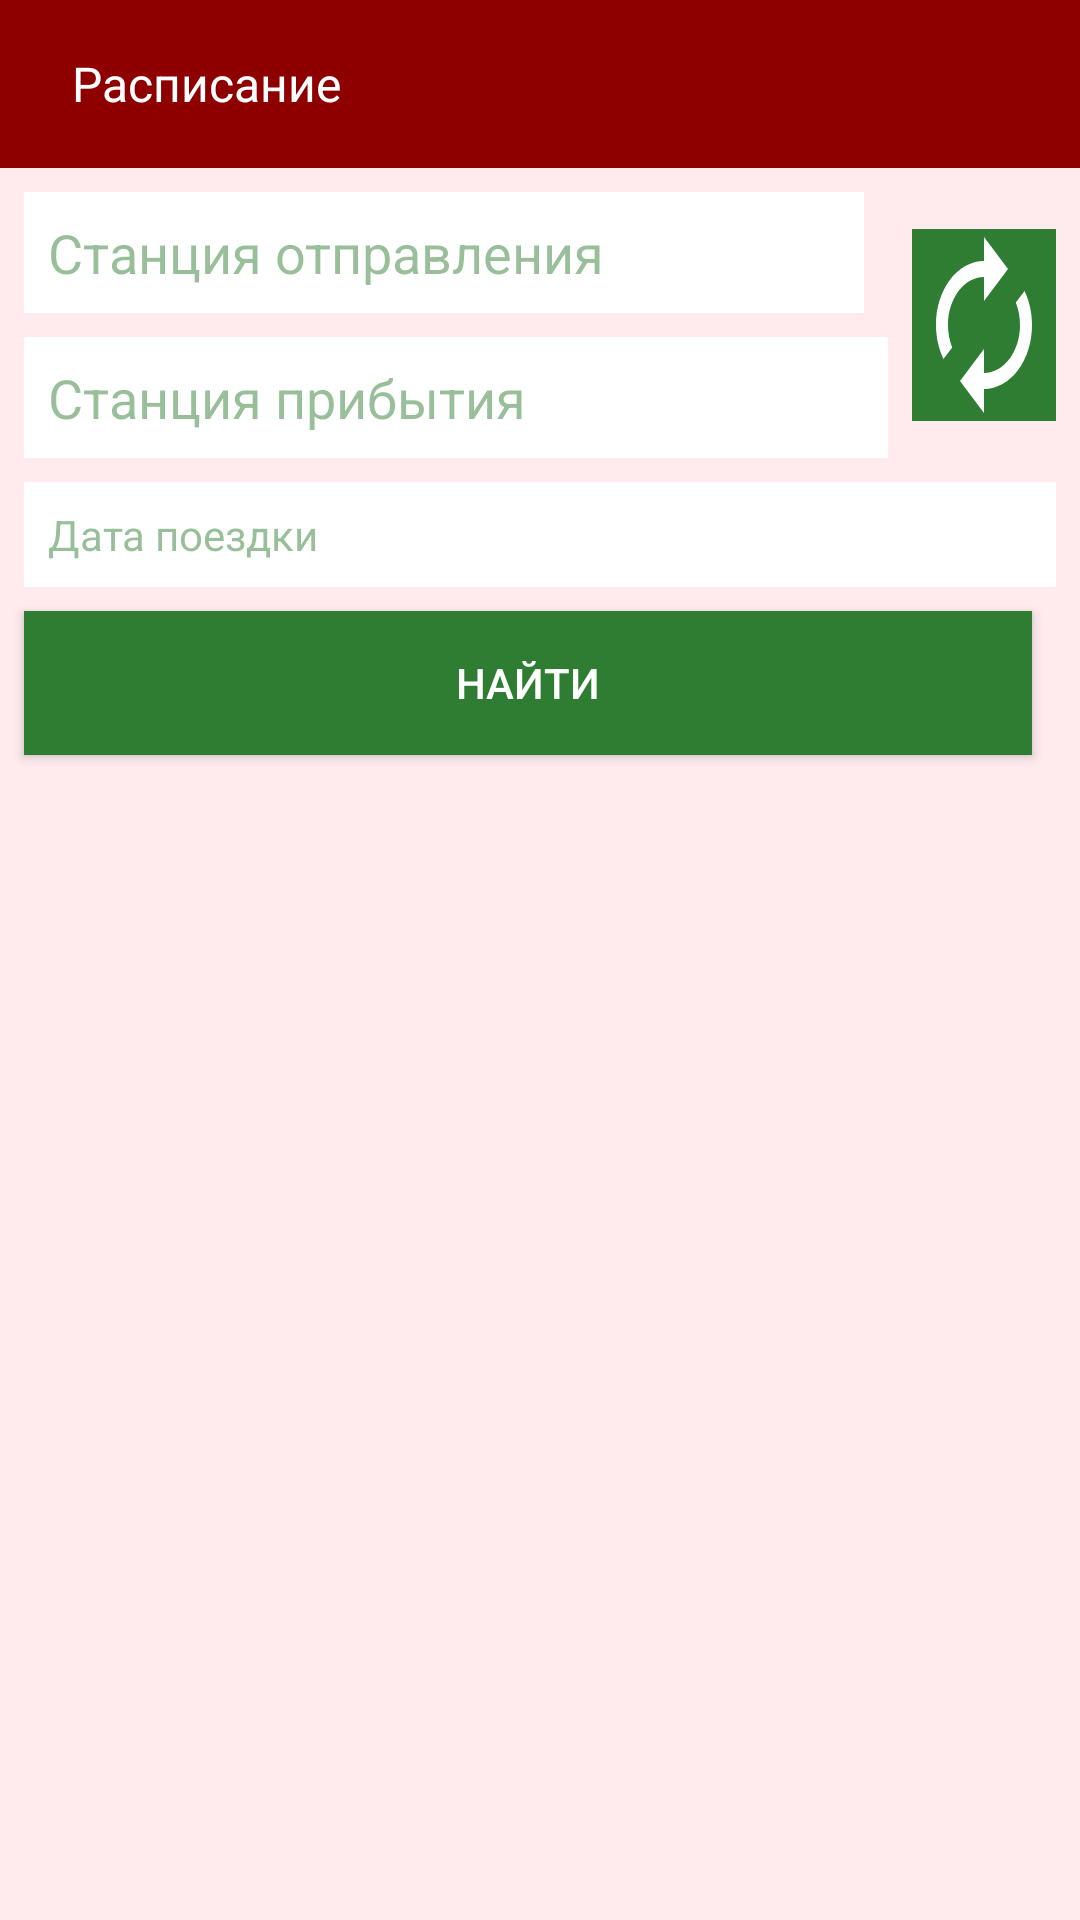

Where to tap for icons on this 1080*1920 app screen, as (x=x, y=y):
reverse: (x=984, y=325)
